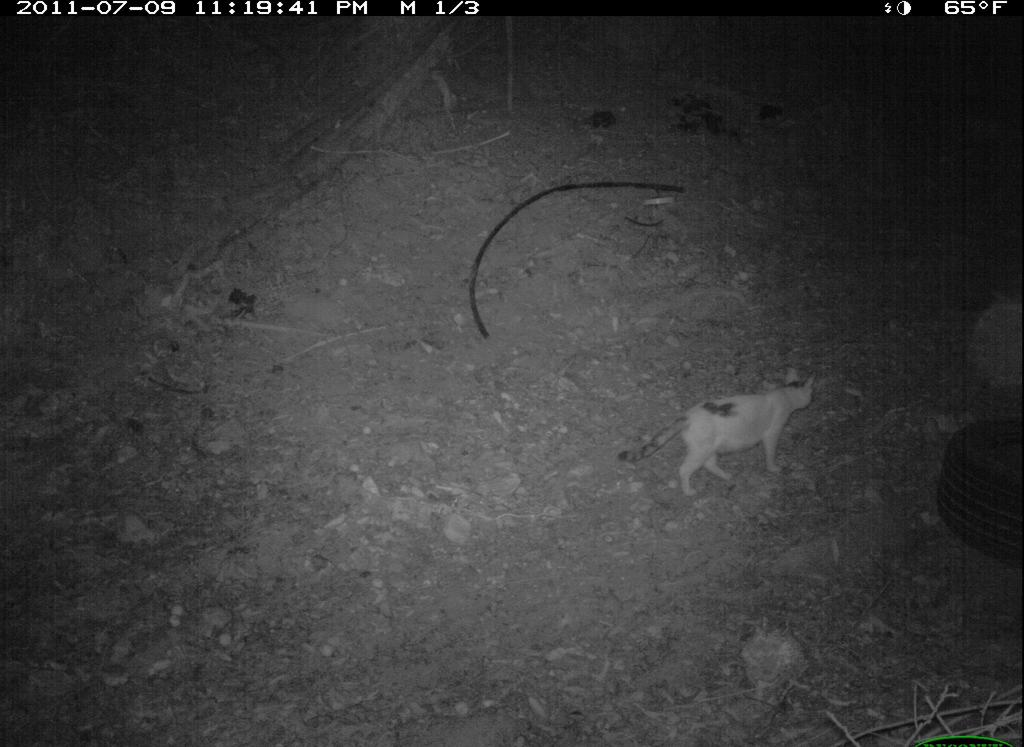cat: (614, 365, 823, 501)
